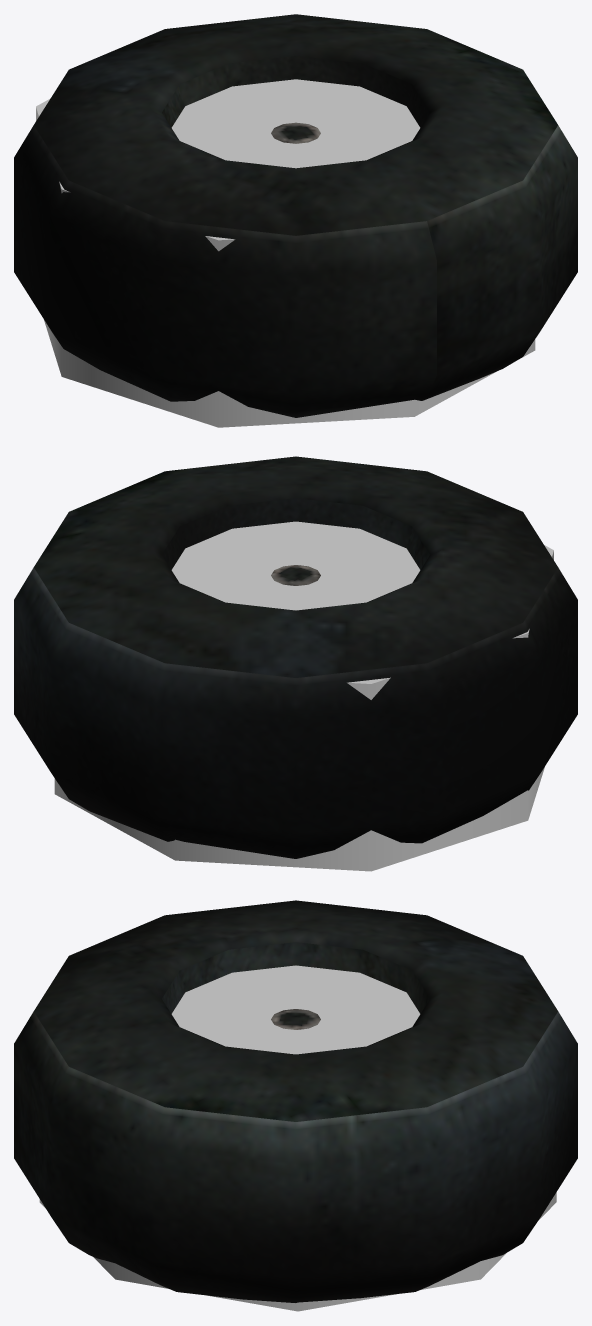
File: Spare Tire.fbx
3 renders of one model, top to bottom at view 1: azimuth 30°, elevation 25°; view 2: azimuth 150°, elevation 25°; view 3: azimuth 270°, elevation 25°, orthographic.
Parts seen in each view (by area): view 1: Tire_Mesh, Spare_Tire; view 2: Tire_Mesh, Spare_Tire; view 3: Tire_Mesh, Spare_Tire.
Part boxes in pixels (<box>): Tire_Mesh: <box>14,14,577,417</box>; Spare_Tire: <box>36,79,535,427</box>; Tire_Mesh: <box>14,456,577,858</box>; Spare_Tire: <box>54,521,553,871</box>; Tire_Mesh: <box>14,900,577,1302</box>; Spare_Tire: <box>39,937,556,1311</box>.
Bounding box in the file's own units: 109 × 47.05 × 109.
